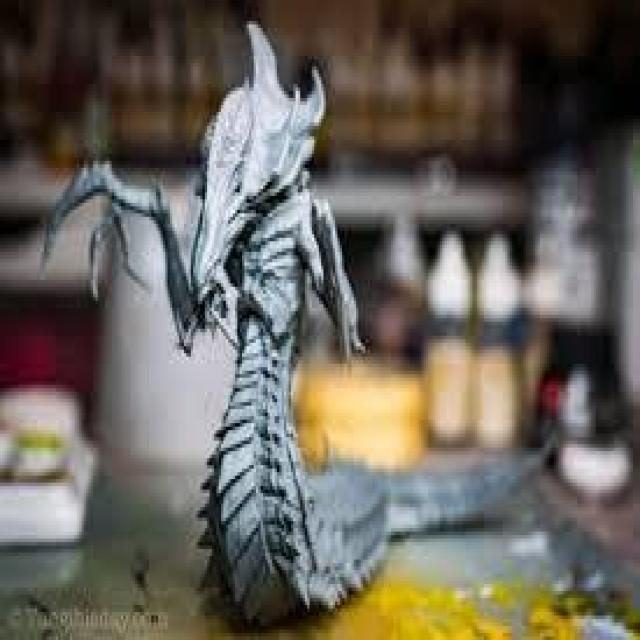Without deffect: (42, 16, 417, 614)
